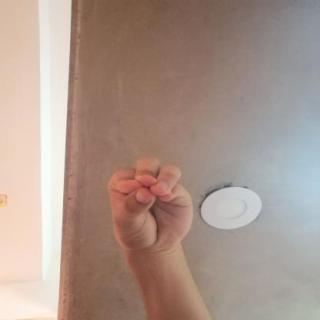HA: (88, 149, 212, 265)
